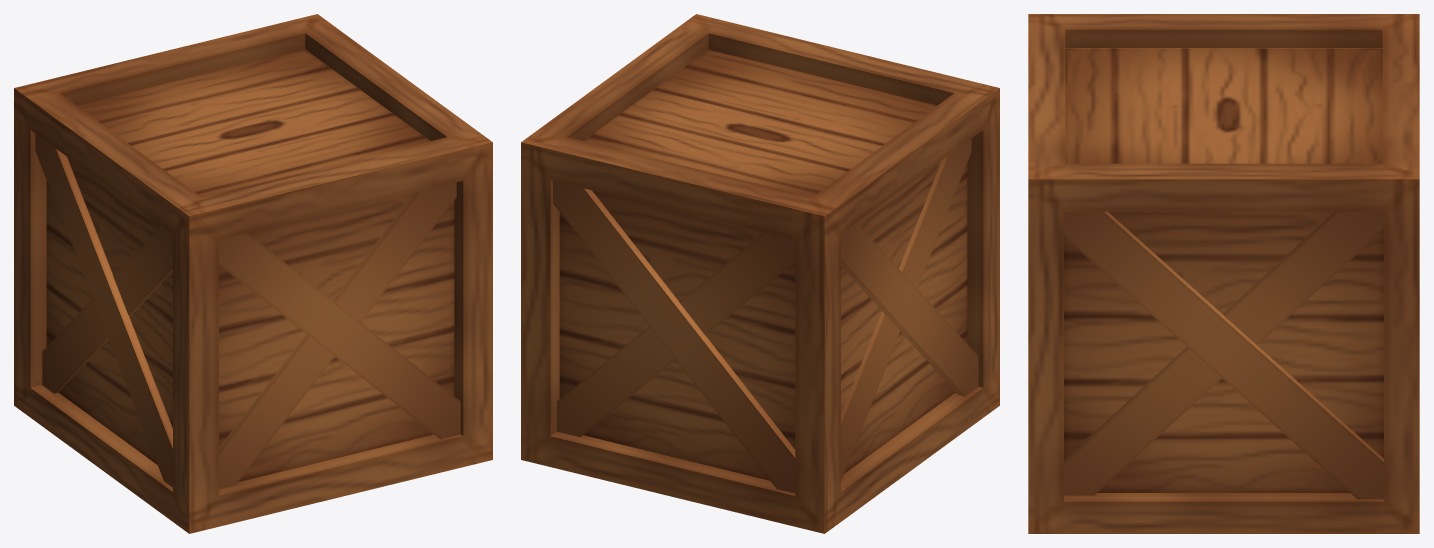
File: crate_v2.glb
The picture shows the model from 3 angles, left to right: view 1: azimuth 30°, elevation 25°; view 2: azimuth 150°, elevation 25°; view 3: azimuth 270°, elevation 25°; orthographic projection. The views are drawn at different scales.
Visible parts, largest first — view 1: crate; view 2: crate; view 3: crate.
Part boxes in pixels (x1,y1,x2,y2): crate: (14,14,492,533); crate: (521,14,999,533); crate: (1028,14,1419,533).
Bounding box in the file's own units: 0.5 × 0.5 × 0.5.
1 material, 1 textured.
